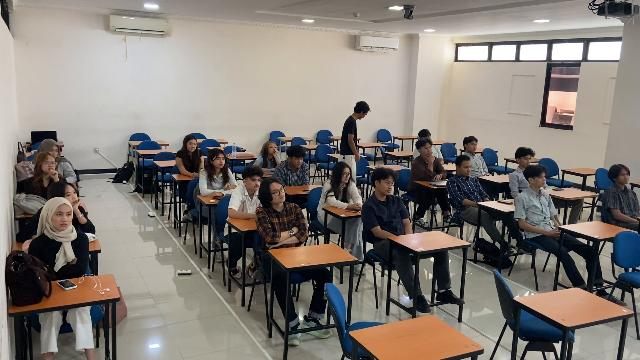fokus: (55, 207, 69, 229), (271, 186, 285, 202), (65, 188, 78, 205), (42, 159, 55, 173), (618, 168, 629, 184), (383, 178, 393, 195), (214, 154, 225, 168), (249, 177, 260, 190), (536, 173, 546, 187), (463, 162, 472, 176), (187, 140, 196, 152), (423, 145, 432, 157), (343, 168, 350, 183), (293, 158, 303, 168), (49, 147, 58, 158), (523, 156, 531, 167), (469, 142, 477, 152), (269, 144, 276, 154)
